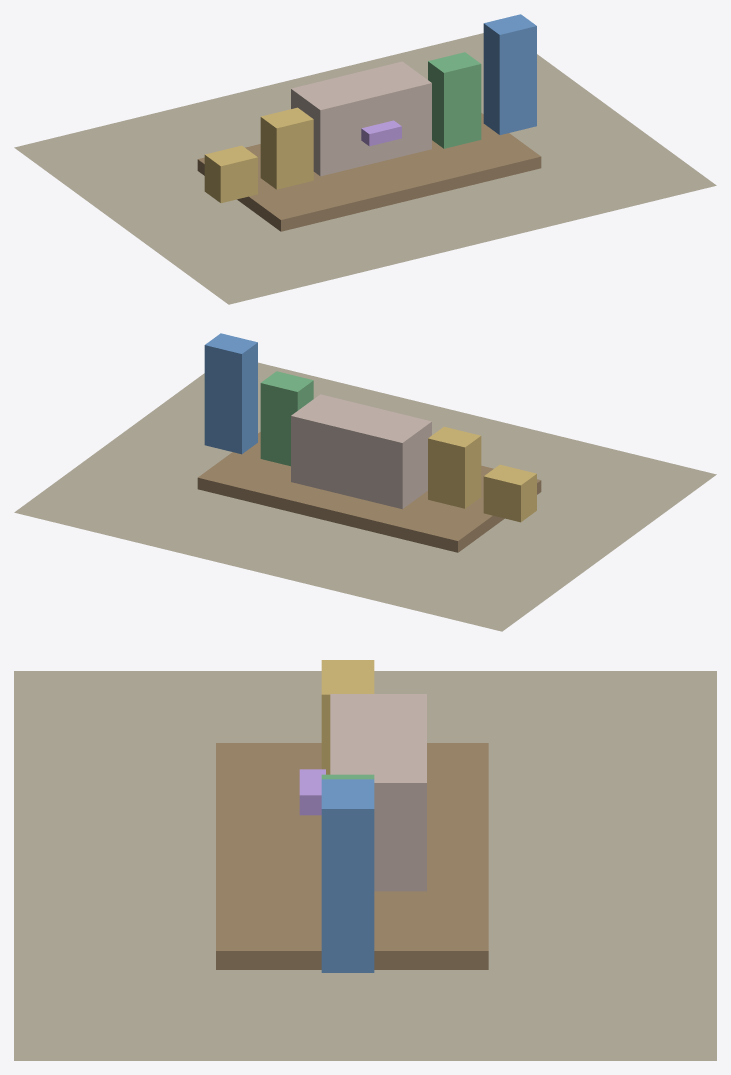
The model's file is world.glb.
3 renders of one model, top to bottom at view 1: azimuth 30°, elevation 25°; view 2: azimuth 150°, elevation 25°; view 3: azimuth 270°, elevation 25°, orthographic. The views are drawn at different scales.
Parts seen in each view (by area): view 1: budget_opaque_mesh, budget_emissive_mesh; view 2: budget_opaque_mesh; view 3: budget_opaque_mesh, budget_emissive_mesh.
Part boxes in pixels (x1=…): budget_opaque_mesh: x1=14, y1=14, x2=716, y2=304; budget_emissive_mesh: x1=361, y1=120, x2=401, y2=146; budget_opaque_mesh: x1=14, y1=333, x2=716, y2=631; budget_opaque_mesh: x1=14, y1=660, x2=716, y2=1060; budget_emissive_mesh: x1=299, y1=769, x2=325, y2=815.
Bounding box in the file's own units: 10.5 × 2.3 × 8.
